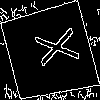X: (24, 26, 80, 71)
